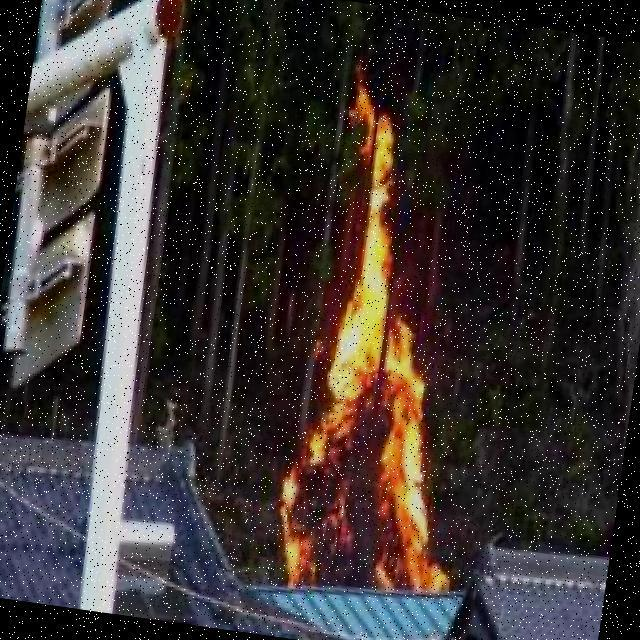Fire: (263, 86, 504, 608)
